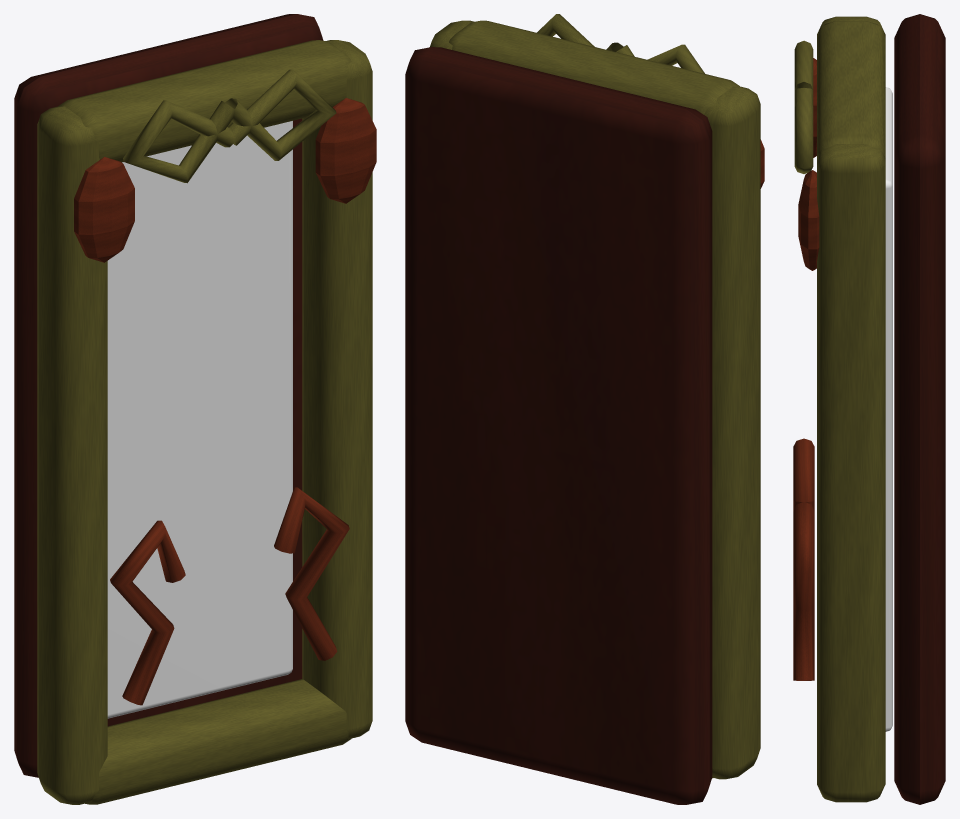
The model's file is 13_Prop_OrnateMirror.fbx.
3 views of the same model, side by side, from view 1: azimuth 30°, elevation 25°; view 2: azimuth 150°, elevation 25°; view 3: azimuth 270°, elevation 25° (orthographic). The views are drawn at different scales.
Parts seen in each view (by area): view 1: Mirror_Glass.001, Mirror_Frame_Rail.004, Mirror_Frame_Rail.005, Mirror_Backboard.001, Mirror_Frame_Rail.006, Mirror_Frame_Rail.007, Mirror_Leaf.002, Mirror_Carved_Curl.002, Mirror_Leaf.003, Mirror_Carved_Curl.003, Mirror_Crown_Scroll.002, Mirror_Crown_Scroll.003; view 2: Mirror_Backboard.001, Mirror_Frame_Rail.004, Mirror_Frame_Rail.007, Mirror_Crown_Scroll.003, Mirror_Crown_Scroll.002; view 3: Mirror_Frame_Rail.005, Mirror_Backboard.001, Mirror_Frame_Rail.007, Mirror_Glass.001, Mirror_Carved_Curl.003, Mirror_Leaf.003, Mirror_Crown_Scroll.003, Mirror_Carved_Curl.002, Mirror_Crown_Scroll.002, Mirror_Leaf.002, Mirror_Frame_Rail.004.
Boxes of the visible parts, x1,y1,x2,y2 form: Mirror_Glass.001: (107,121,292,718); Mirror_Frame_Rail.004: (37,106,107,804); Mirror_Frame_Rail.005: (302,40,372,739); Mirror_Backboard.001: (14,14,323,777); Mirror_Frame_Rail.006: (85,679,351,804); Mirror_Frame_Rail.007: (58,40,351,162); Mirror_Leaf.002: (74,157,134,262); Mirror_Carved_Curl.002: (110,520,185,705); Mirror_Leaf.003: (315,98,376,203); Mirror_Carved_Curl.003: (274,487,349,660); Mirror_Crown_Scroll.002: (123,100,234,183); Mirror_Crown_Scroll.003: (225,69,336,160); Mirror_Backboard.001: (405,47,712,804); Mirror_Frame_Rail.004: (704,86,760,779); Mirror_Frame_Rail.007: (449,20,739,114); Mirror_Crown_Scroll.003: (537,14,623,51); Mirror_Crown_Scroll.002: (616,44,704,73); Mirror_Frame_Rail.005: (817,144,885,802); Mirror_Backboard.001: (894,14,945,804); Mirror_Frame_Rail.007: (817,21,885,157); Mirror_Glass.001: (885,87,892,731); Mirror_Carved_Curl.003: (793,502,814,680); Mirror_Leaf.003: (798,170,819,270); Mirror_Crown_Scroll.003: (794,88,813,173); Mirror_Carved_Curl.002: (793,438,814,511); Mirror_Crown_Scroll.002: (794,40,813,89); Mirror_Leaf.002: (813,58,816,157); Mirror_Frame_Rail.004: (817,16,885,38).
Size of the model in its own units: 0.81 by 1.73 by 0.355.
Materials: 4 (3 with a texture image).
